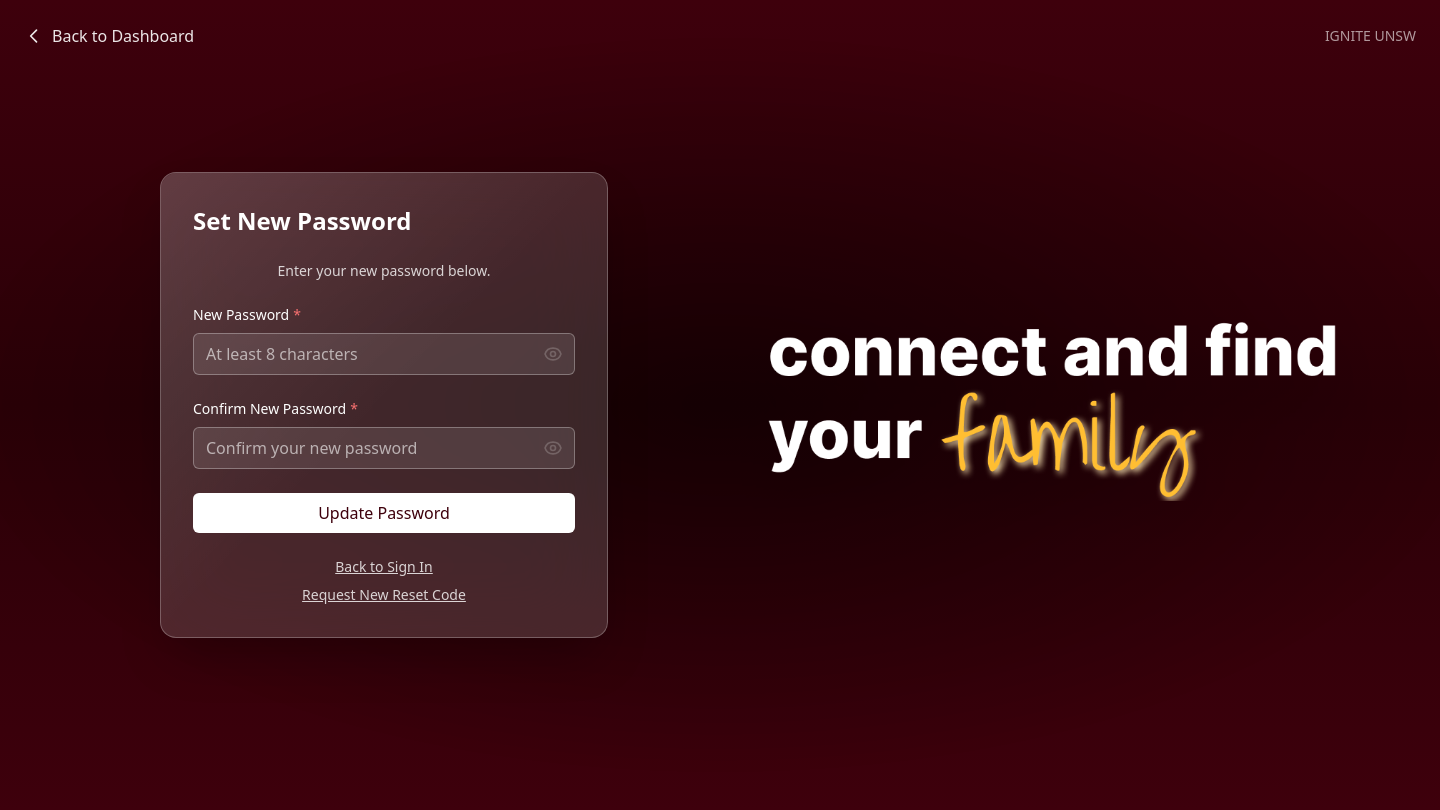
Test: ResetPassword › shows validation error for short password
The width and height of the screenshot is (1440, 810).
Step 1. Type "123" into the password field labelled "New Password*" → (384, 354), box [193,333,575,375]
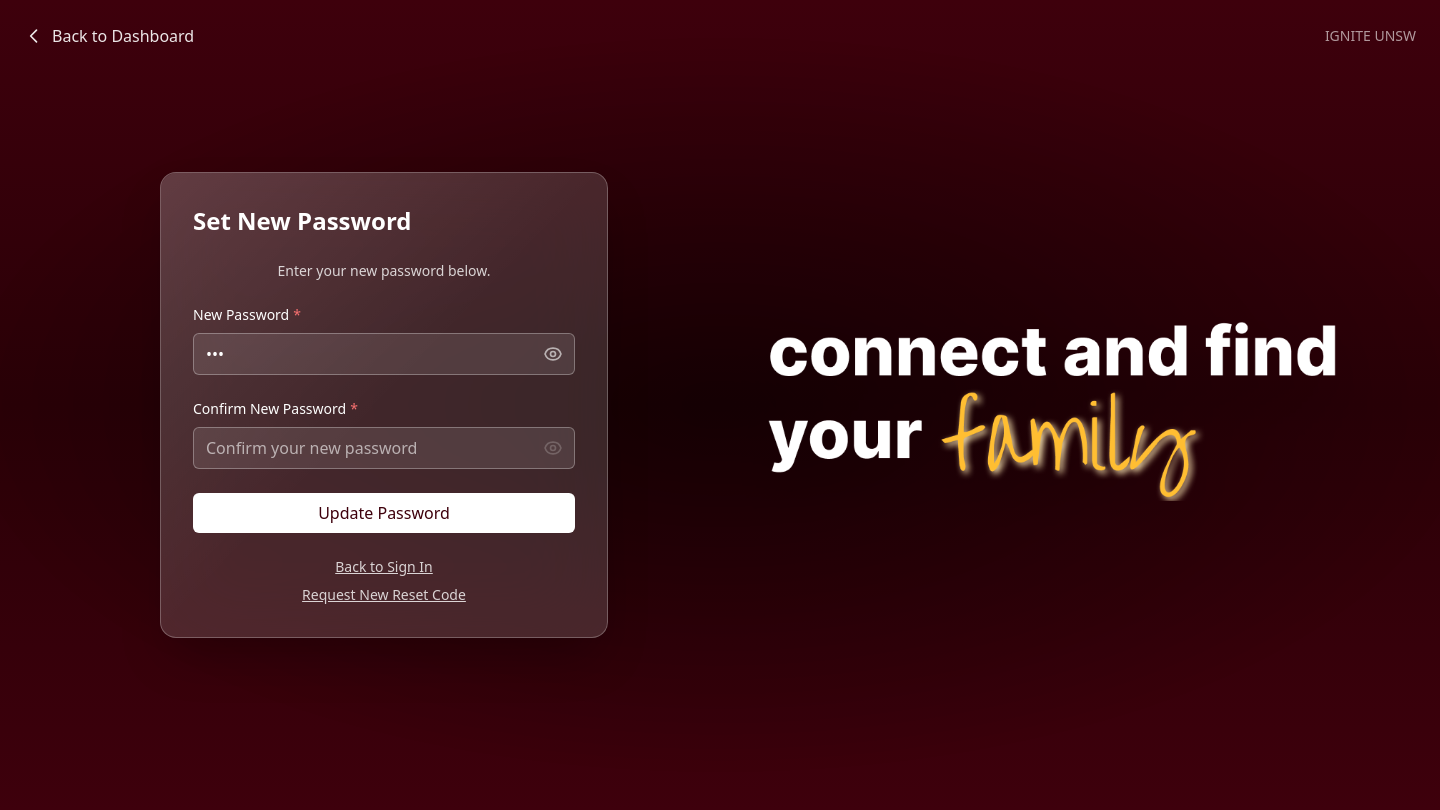
Step 2. Type "123" into the password field labelled "Confirm New Password*" → (384, 448), box [193,427,575,469]
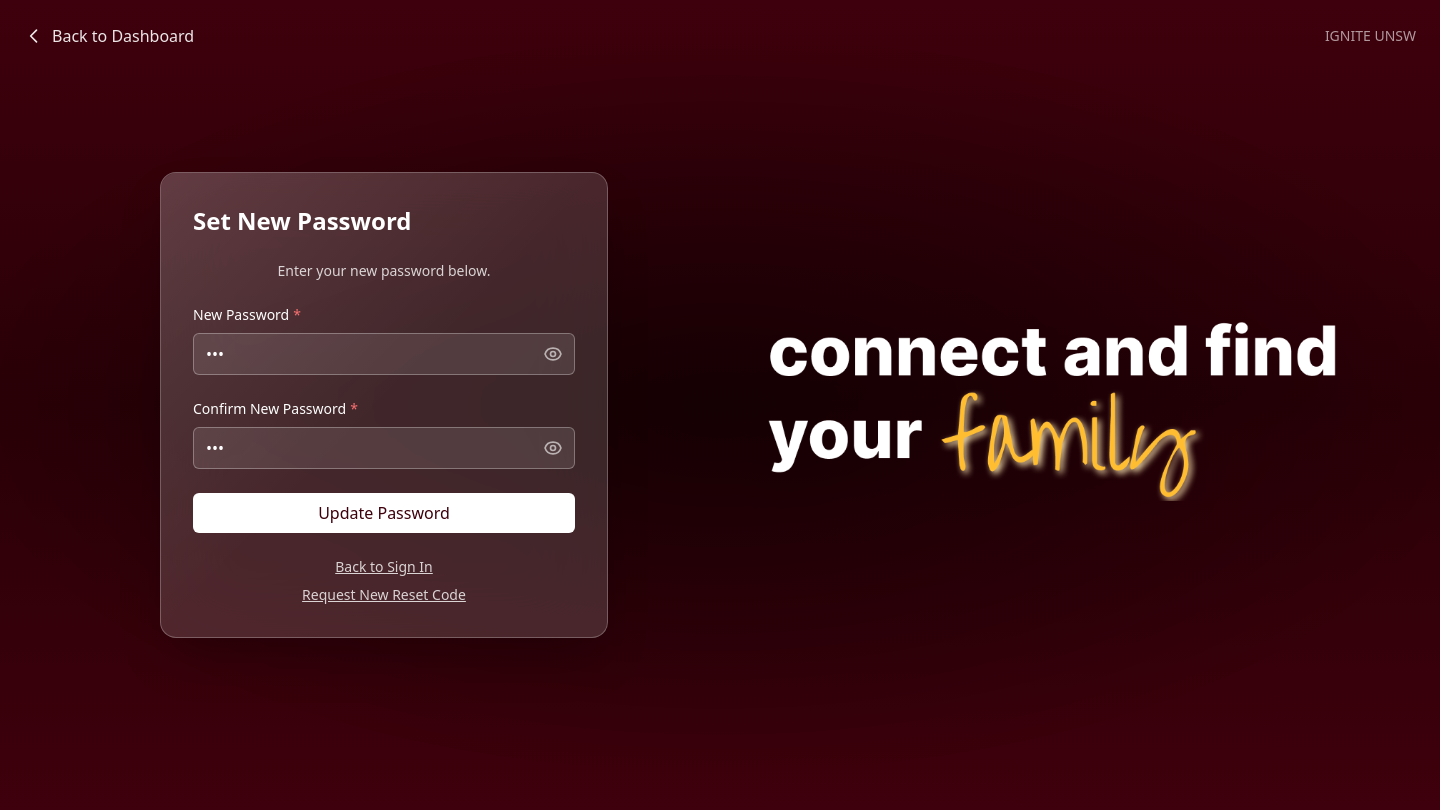
Step 3. Click the button "Update Password" → (384, 513), box [193,493,575,533]
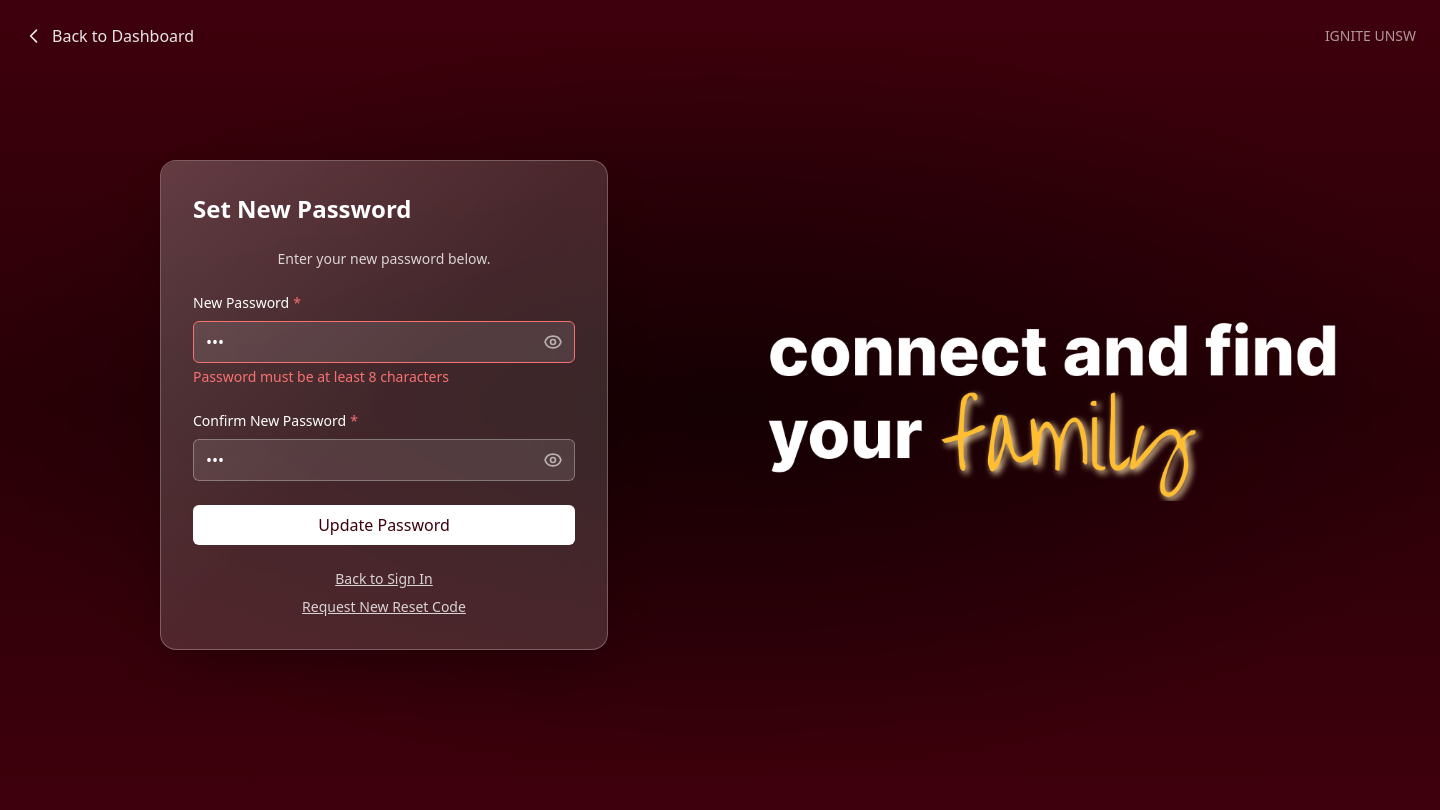
Check: the text "Password must be at least 8 characters" is shown, box [193,367,449,386]
